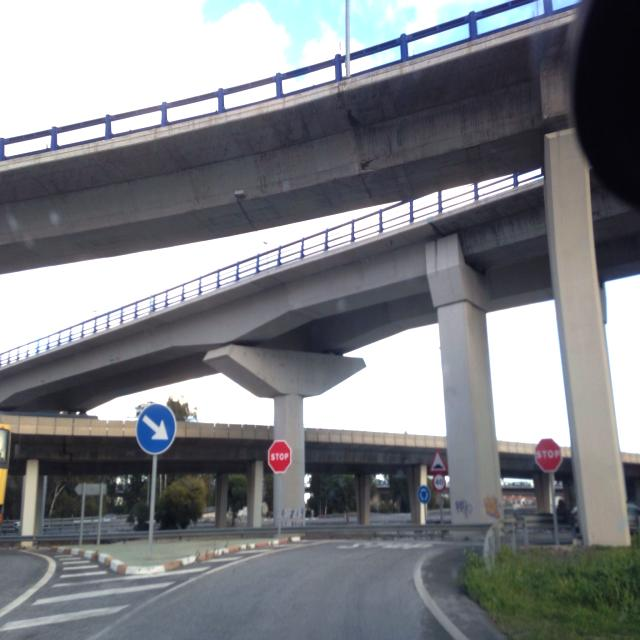car: (626, 502, 640, 536)
